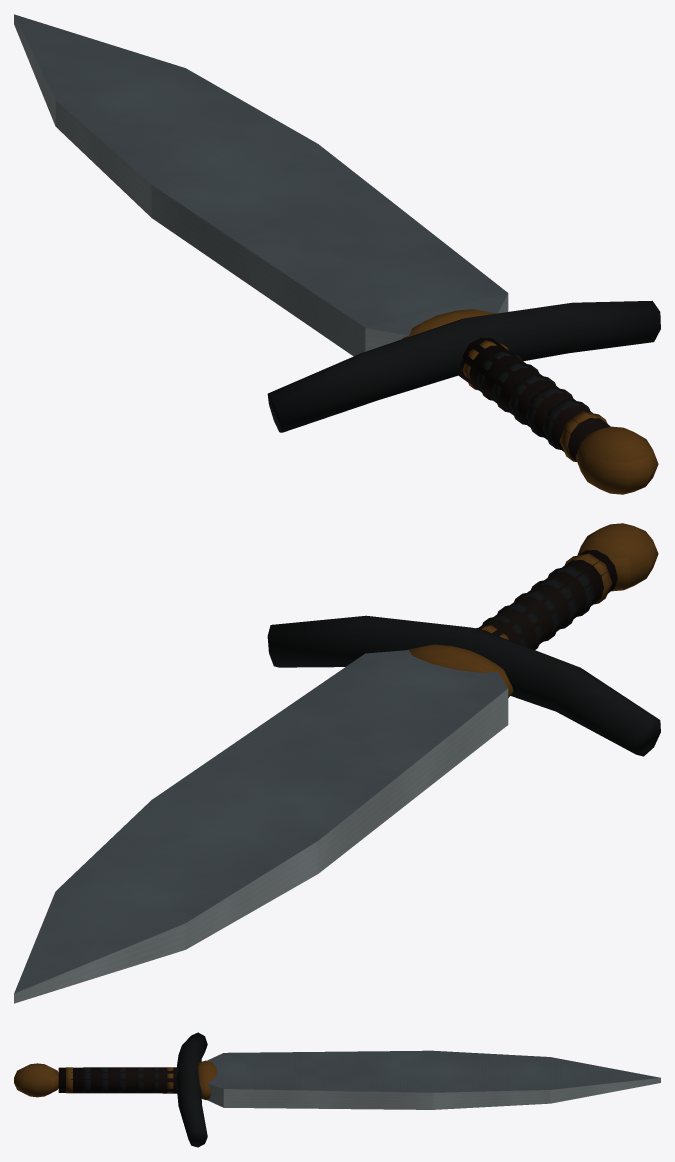
The model's file is turnwarden_v2_sword.glb.
The picture shows the model from 3 angles, top to bottom: view 1: azimuth 30°, elevation 25°; view 2: azimuth 150°, elevation 25°; view 3: azimuth 270°, elevation 25°; orthographic projection. The views are drawn at different scales.
Visible parts, largest first — view 1: turnwarden_v2_swordMesh; view 2: turnwarden_v2_swordMesh; view 3: turnwarden_v2_swordMesh.
Part boxes in pixels (<box>): turnwarden_v2_swordMesh: <box>14,14,660,494</box>; turnwarden_v2_swordMesh: <box>14,523,660,1003</box>; turnwarden_v2_swordMesh: <box>14,1032,660,1147</box>.
Bounding box in the file's own units: 0.4839 × 0.0934 × 1.36.
5 materials, 5 textured.
